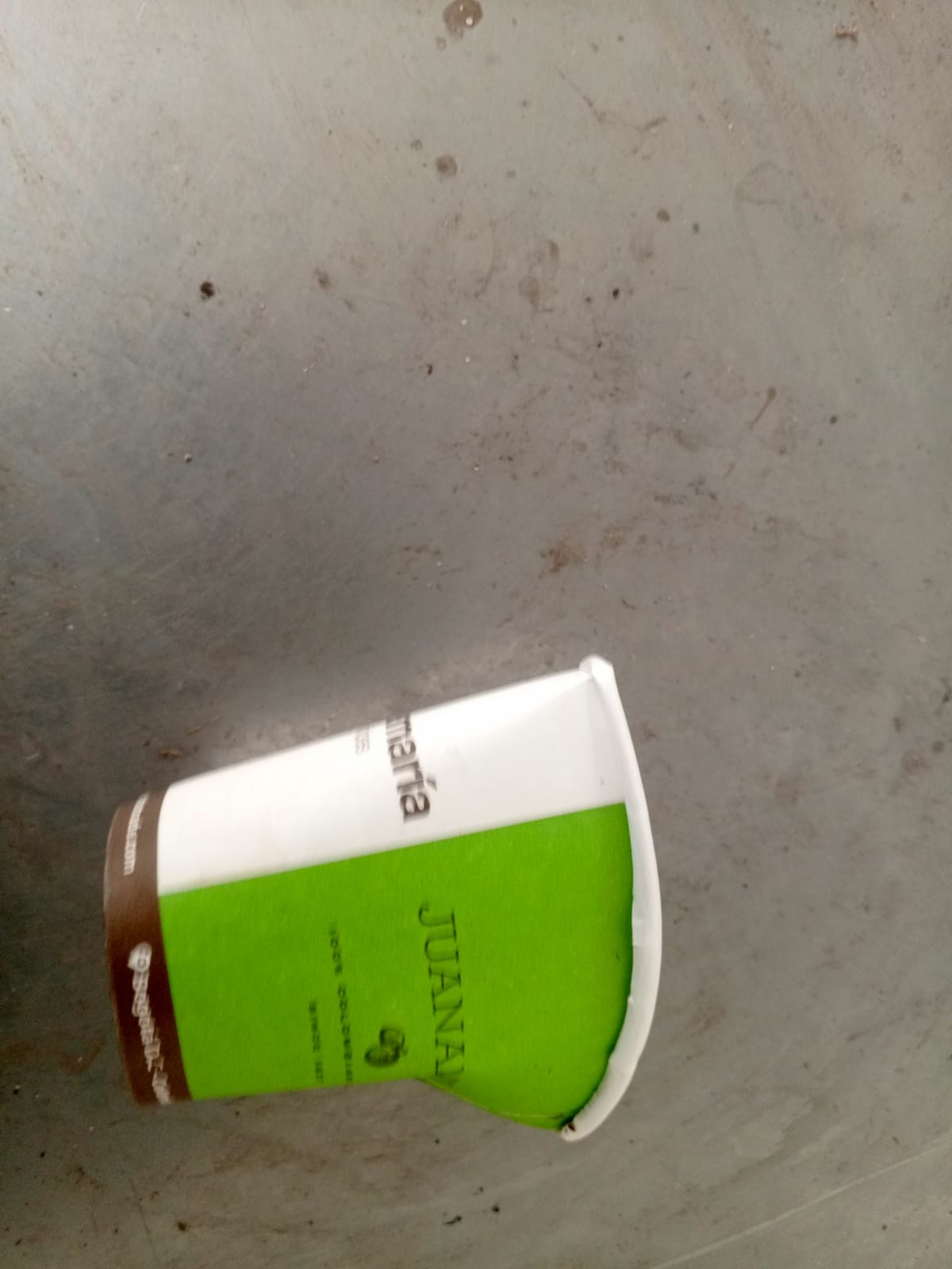Carton: (106, 657, 662, 1140)
